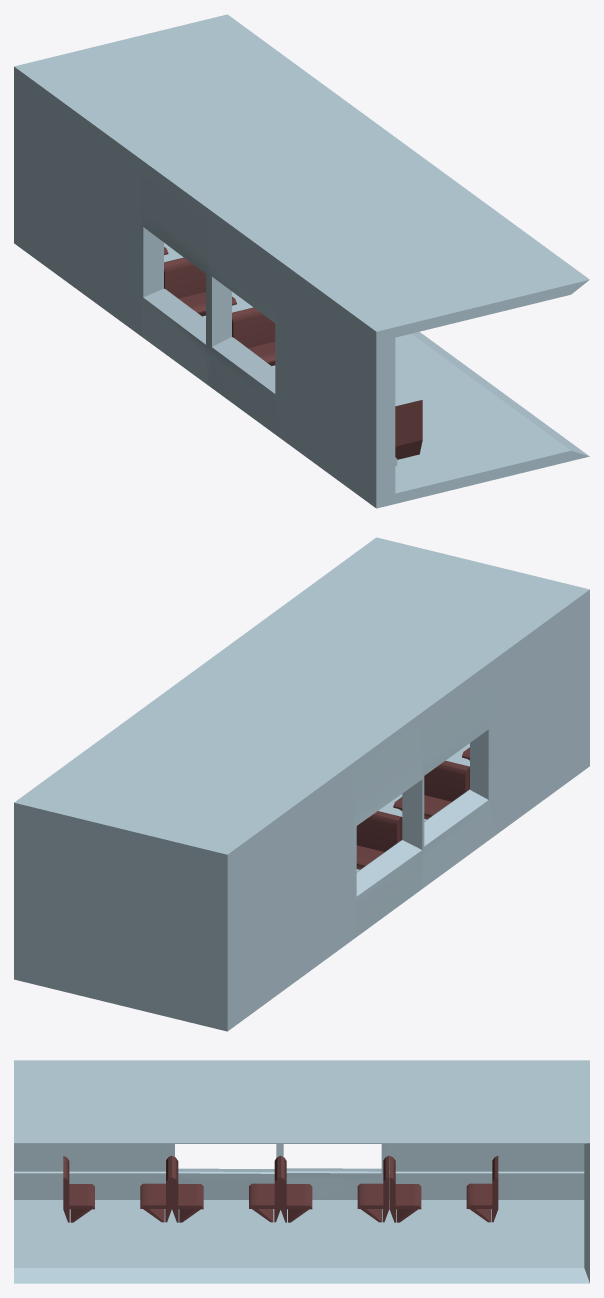
File: train_interior.fbx
The picture shows the model from 3 angles, top to bottom: view 1: azimuth 30°, elevation 25°; view 2: azimuth 150°, elevation 25°; view 3: azimuth 270°, elevation 25°; orthographic projection. The views are drawn at different scales.
Parts seen in each view (by area): view 1: pCube1, pCube2, pCube5, pCube8; view 2: pCube1, pCube4, pCube6; view 3: pCube1, pCube5, pCube9, pCube10, pCube2, pCube4, pCube8, pCube7, pCube6.
Boxes of the visible parts, x1,y1,x2,y2 form: pCube1: (14,14,589,508); pCube2: (232,307,275,365); pCube5: (164,258,236,316); pCube8: (395,400,422,459); pCube1: (14,537,589,1031); pCube4: (393,761,469,819); pCube6: (356,811,400,869); pCube1: (14,1060,589,1283); pCube5: (357,1156,389,1222); pCube9: (466,1156,498,1222); pCube10: (389,1156,421,1222); pCube2: (249,1155,280,1222); pCube4: (172,1156,203,1222); pCube8: (63,1156,94,1222); pCube7: (140,1155,171,1222); pCube6: (280,1156,312,1222).
Size of the model in its own units: 17.57 by 13.81 by 51.32.
